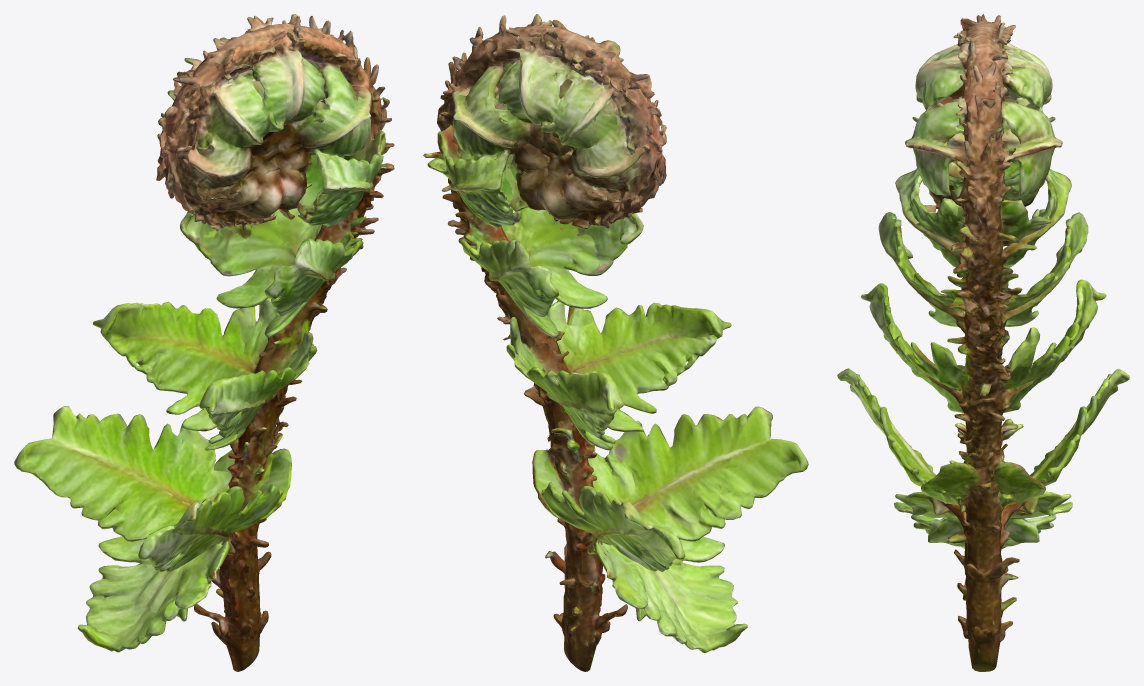
The model's file is fern-curl-v12.glb.
The picture shows the model from 3 angles, left to right: view 1: azimuth 30°, elevation 25°; view 2: azimuth 150°, elevation 25°; view 3: azimuth 270°, elevation 25°; orthographic projection. The views are drawn at different scales.
Parts seen in each view (by area): view 1: geometry_0; view 2: geometry_0; view 3: geometry_0.
Boxes of the visible parts, x1,y1,x2,y2 form: geometry_0: (14,14,394,671); geometry_0: (423,14,808,671); geometry_0: (837,14,1129,671).
Size of the model in its own units: 0.0905 by 0.1799 by 0.0722.
1 material, 1 textured.
